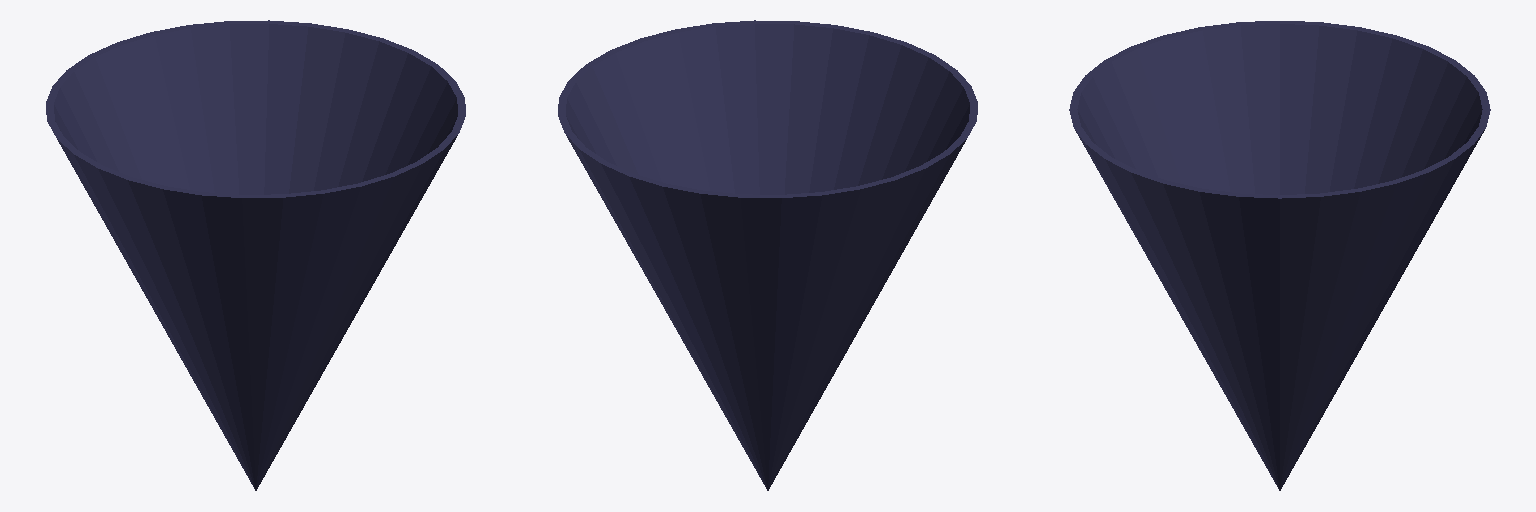
The robot description file, URDF, robot "object":
<?xml version="1.0"?>
<robot name="object">
  <link name="base_link"> <!-- required name-->
    <inertial>
      <origin xyz="0 0 0" /> 
      <mass value="1.0" />
      <inertia  ixx="1.0" ixy="0.0"  ixz="0.0"  iyy="1.0"  iyz="0.0"  izz="1.0" />
    </inertial>
    <visual>
      <origin xyz="0 0 0"/>
      <geometry>
        <!-- cone1 is slightly larger than a cone defined for mu = 0.5 -->
        <mesh filename="package://animals_description/meshes/cone1blue.dae"/>
      </geometry>
    </visual>
  </link>
</robot>

--- Render facts (derived) ---
Views: 3 orthographic renders of the robot side by side, from view 1: azimuth 30°, elevation 25°; view 2: azimuth 150°, elevation 25°; view 3: azimuth 270°, elevation 25°.
Model object with 1 links and 0 joints (none), rooted at base_link, posed every joint at zero.
Links seen in each view (by area): view 1: base_link; view 2: base_link; view 3: base_link.
Link boxes in pixels (box(x1,y1,x2,y2)): base_link: box(46, 20, 465, 490); base_link: box(558, 20, 977, 490); base_link: box(1069, 21, 1490, 490).
Bounding box of the posed robot: 0.391 × 0.391 × 0.391 m (x, y, z).
1 mesh visuals loaded from 1 distinct referenced files (1 Collada DAE).